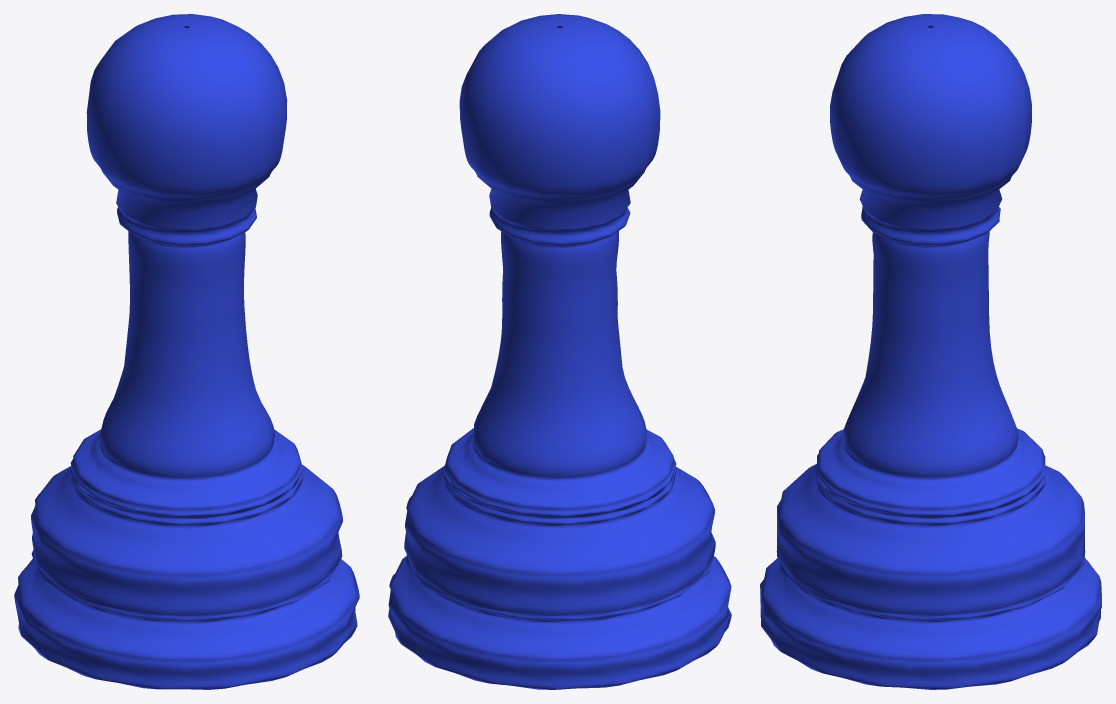
File: pawn.glb
3 views of the same model, side by side, from view 1: azimuth 30°, elevation 25°; view 2: azimuth 150°, elevation 25°; view 3: azimuth 270°, elevation 25° (orthographic).
Parts seen in each view (by area): view 1: peon; view 2: peon; view 3: peon.
Boxes of the visible parts, x1,y1,x2,y2 form: peon: [14, 14, 359, 689]; peon: [388, 14, 731, 689]; peon: [760, 14, 1101, 689].
Bounding box in the file's own units: 0.1347 × 0.2571 × 0.1347.
